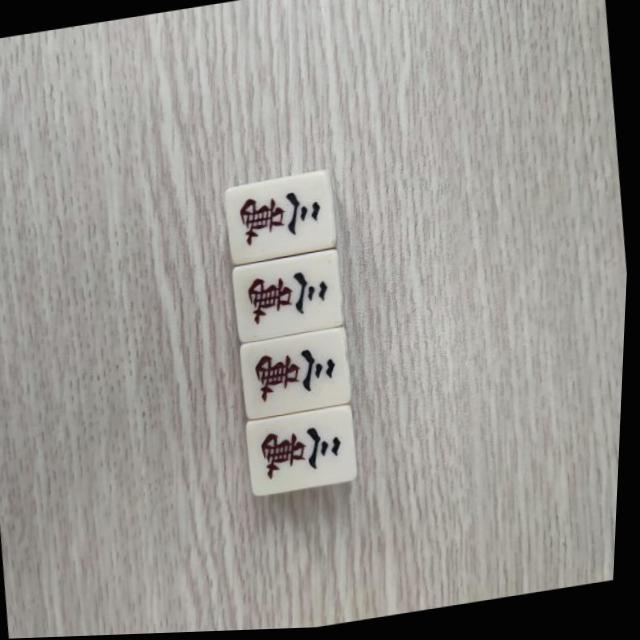sc3: (240, 256, 343, 335), (231, 178, 334, 256), (257, 413, 358, 491), (247, 334, 349, 411)
